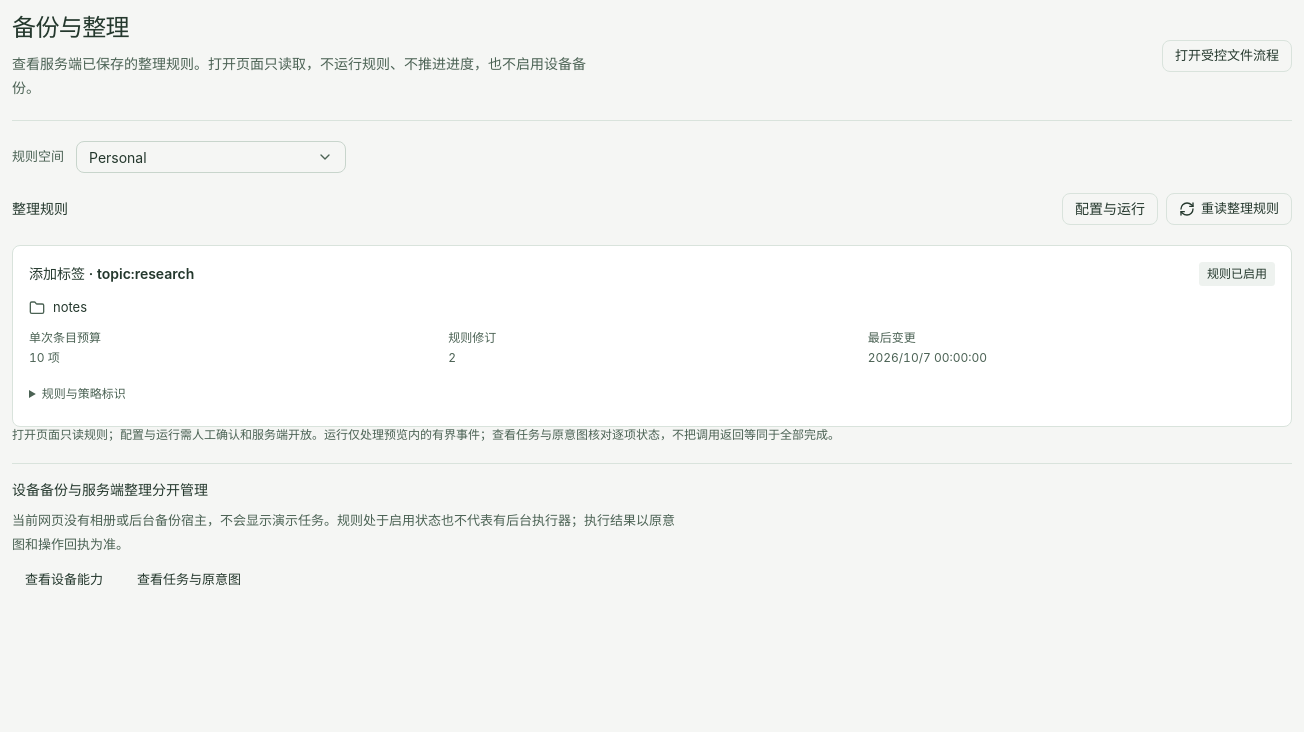
Test: clears management buttons and rules after a denied capability read
Expected: the heading "添加标签 · topic:research" is shown, [29, 265, 194, 282]
Click the button "配置与运行".
click(1110, 209)  # box [1062, 193, 1158, 225]
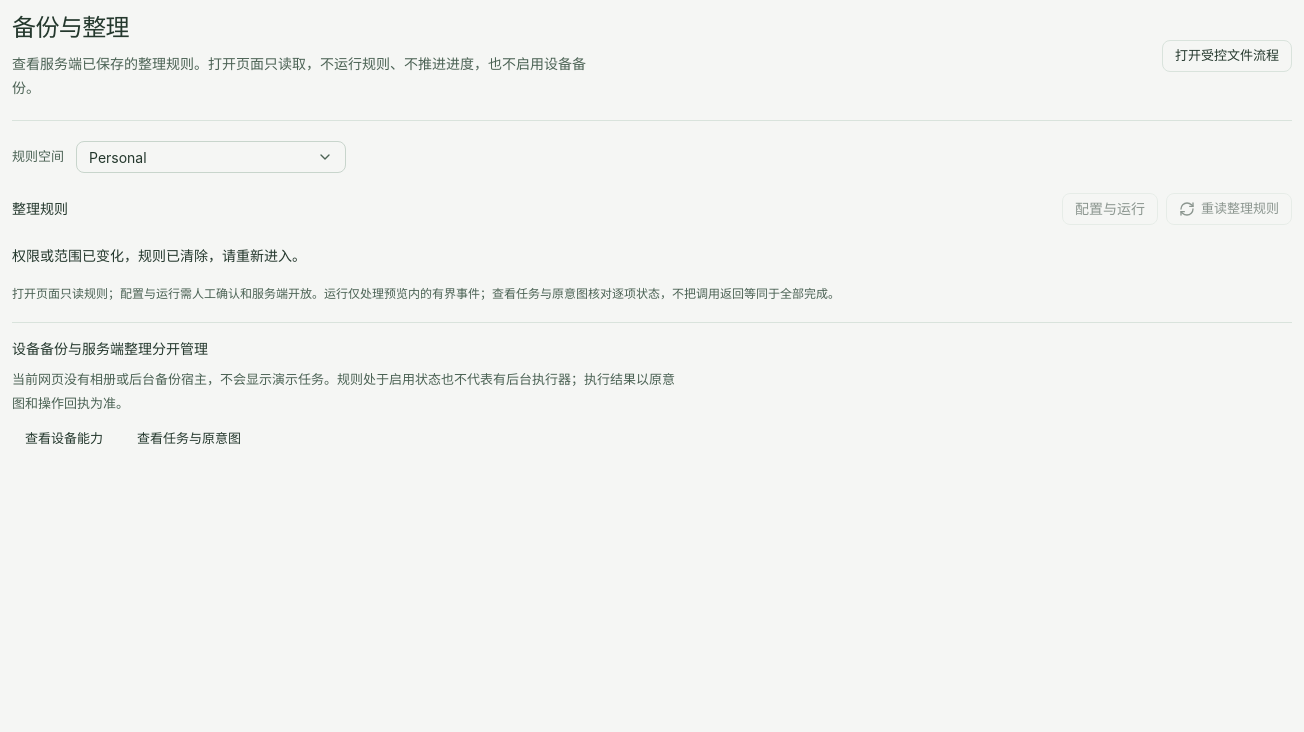
Now the text "权限或范围已变化，规则已清除，请重新进入。" is shown, box [12, 247, 306, 264]
Now the heading "添加标签 · topic:research" is gone
